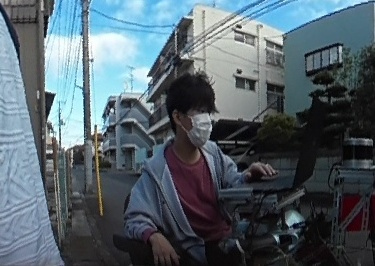person: (125, 76, 275, 266)
